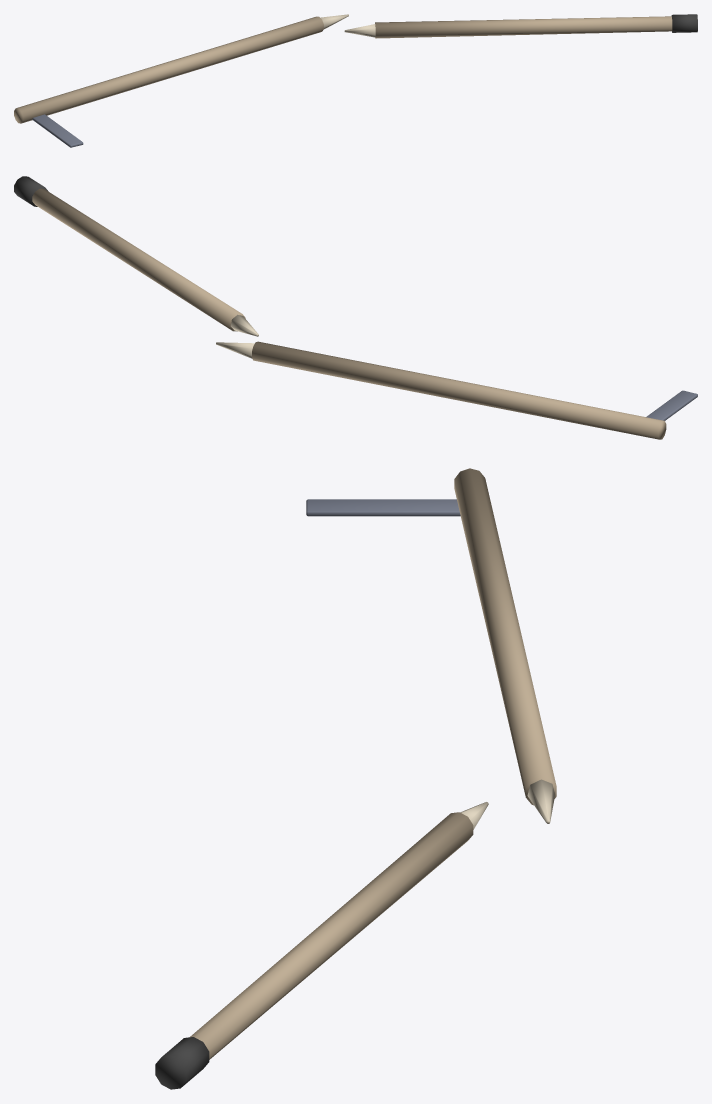
The model's file is walking_stick.glb.
The picture shows the model from 3 angles, top to bottom: view 1: azimuth 30°, elevation 25°; view 2: azimuth 150°, elevation 25°; view 3: azimuth 270°, elevation 25°; orthographic projection. The views are drawn at different scales.
Visible parts, largest first — view 1: g_stick_wood, g_stick_strap, g_stick_tip, g_stick_break; view 2: g_stick_wood, g_stick_break, g_stick_strap, g_stick_tip; view 3: g_stick_wood, g_stick_strap, g_stick_tip, g_stick_break.
Boxes of the visible parts, left/top/right/bottom form: g_stick_wood: left=14, top=16, right=672, bottom=123; g_stick_strap: left=32, top=114, right=83, bottom=147; g_stick_tip: left=671, top=14, right=697, bottom=32; g_stick_break: left=320, top=14, right=375, bottom=37; g_stick_wood: left=32, top=188, right=666, bottom=439; g_stick_break: left=216, top=314, right=258, bottom=358; g_stick_strap: left=646, top=390, right=697, bottom=420; g_stick_tip: left=14, top=176, right=48, bottom=206; g_stick_wood: left=190, top=468, right=556, bottom=1059; g_stick_strap: left=306, top=499, right=460, bottom=516; g_stick_tip: left=155, top=1037, right=209, bottom=1089; g_stick_break: left=460, top=779, right=554, bottom=829.
Bounding box in the file's own units: 1.37 × 0.0362 × 0.3929.
